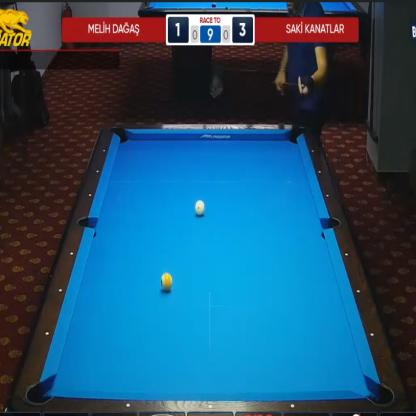Ball: (161, 273, 173, 291), (194, 200, 204, 216)
